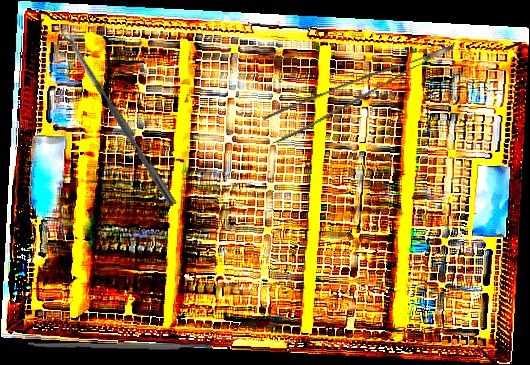Scalpel Handle: (27, 340, 213, 352)
Surgical Spoon: (60, 25, 178, 208)
Tissue Forceps: (259, 45, 465, 144)
